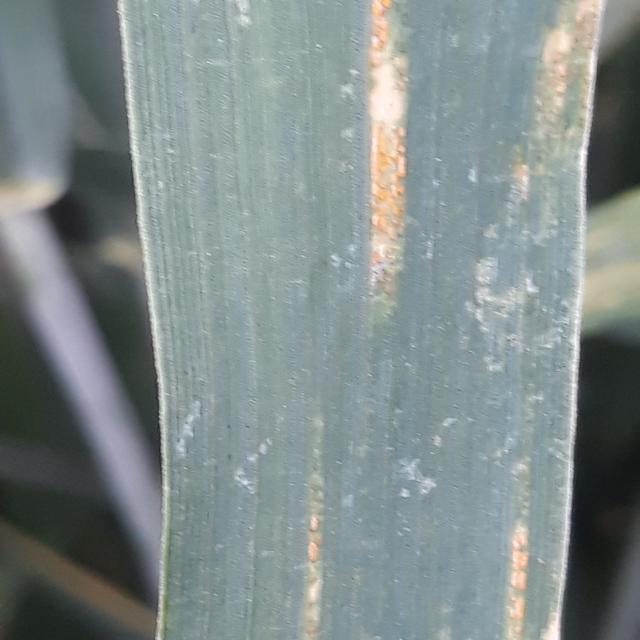yellow_rust: (58, 3, 612, 640)
